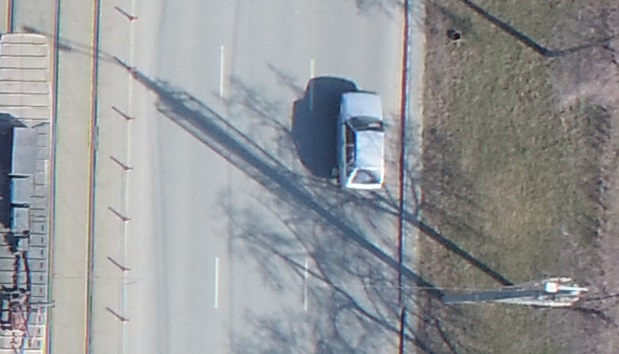opora: (358, 233, 590, 316)
